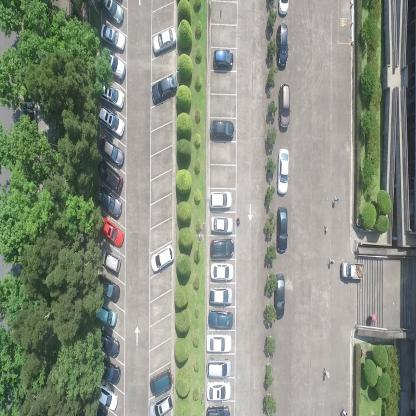car: (150, 72, 178, 106), (95, 159, 123, 192), (94, 185, 122, 217), (98, 106, 125, 139), (150, 242, 176, 276), (99, 135, 125, 168), (98, 215, 124, 248), (100, 50, 126, 81), (151, 26, 177, 55), (99, 24, 126, 51), (99, 81, 125, 109), (96, 275, 121, 303), (149, 367, 173, 396), (95, 382, 118, 412), (96, 330, 120, 358), (209, 118, 235, 142), (100, 0, 124, 26), (278, 82, 290, 132), (277, 146, 289, 196), (148, 392, 174, 415), (206, 332, 233, 354), (276, 206, 288, 254), (95, 304, 118, 329), (208, 308, 234, 330), (205, 380, 231, 402), (98, 360, 121, 384), (206, 356, 231, 378), (100, 248, 122, 273), (209, 190, 233, 212), (277, 24, 288, 71), (341, 260, 364, 282), (274, 273, 284, 321), (210, 262, 234, 282), (209, 285, 233, 305), (210, 239, 235, 258), (213, 48, 234, 70), (210, 216, 234, 235), (205, 404, 231, 415), (276, 0, 290, 18)
